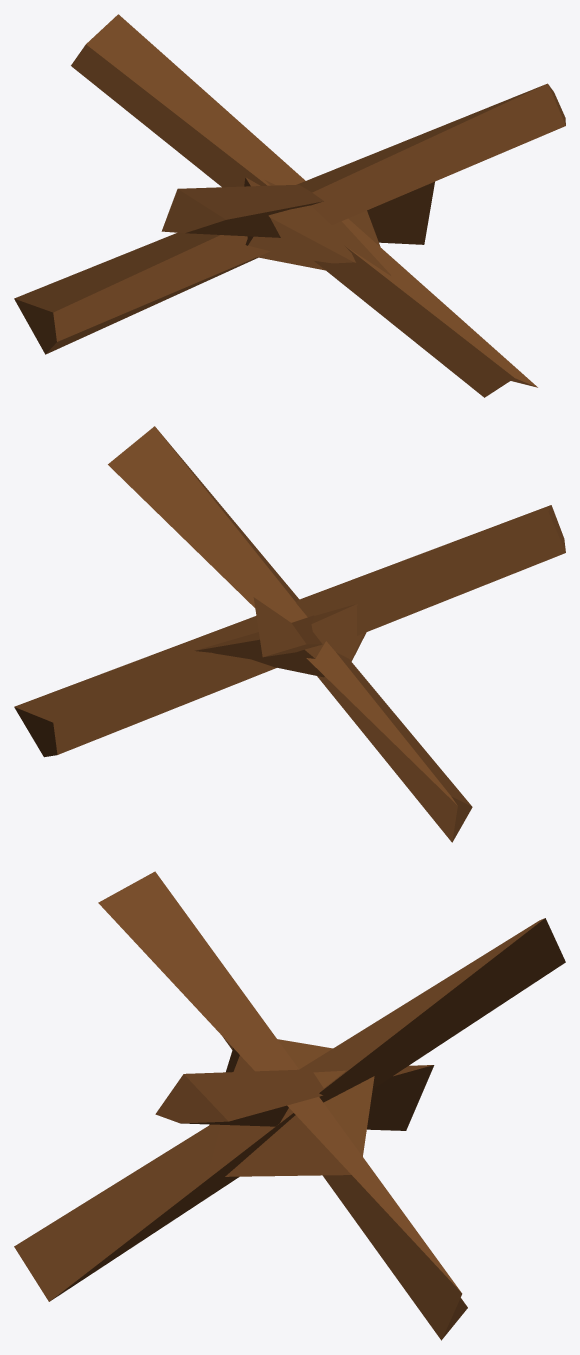
The model's file is Tankstopper.fbx.
3 renders of one model, top to bottom at view 1: azimuth 30°, elevation 25°; view 2: azimuth 150°, elevation 25°; view 3: azimuth 270°, elevation 25°, orthographic. The views are drawn at different scales.
Visible parts, largest first — view 1: Cube, Cube.001, Cube.002, Cube.003; view 2: Cube.002, Cube, Cube.003, Cube.001; view 3: Cube.001, Cube.002, Cube, Cube.003.
Part boxes in pixels (bbox=[...]): Cube: bbox=[14, 83, 565, 354]; Cube.001: bbox=[71, 14, 537, 397]; Cube.002: bbox=[161, 181, 434, 244]; Cube.003: bbox=[244, 177, 390, 275]; Cube.002: bbox=[14, 505, 565, 757]; Cube: bbox=[108, 426, 472, 842]; Cube.003: bbox=[194, 603, 366, 677]; Cube.001: bbox=[253, 597, 322, 657]; Cube.001: bbox=[14, 918, 565, 1301]; Cube.002: bbox=[98, 871, 467, 1340]; Cube: bbox=[155, 1065, 434, 1130]; Cube.003: bbox=[207, 1039, 374, 1176].
Size of the model in its own units: 204 by 114 by 199.
